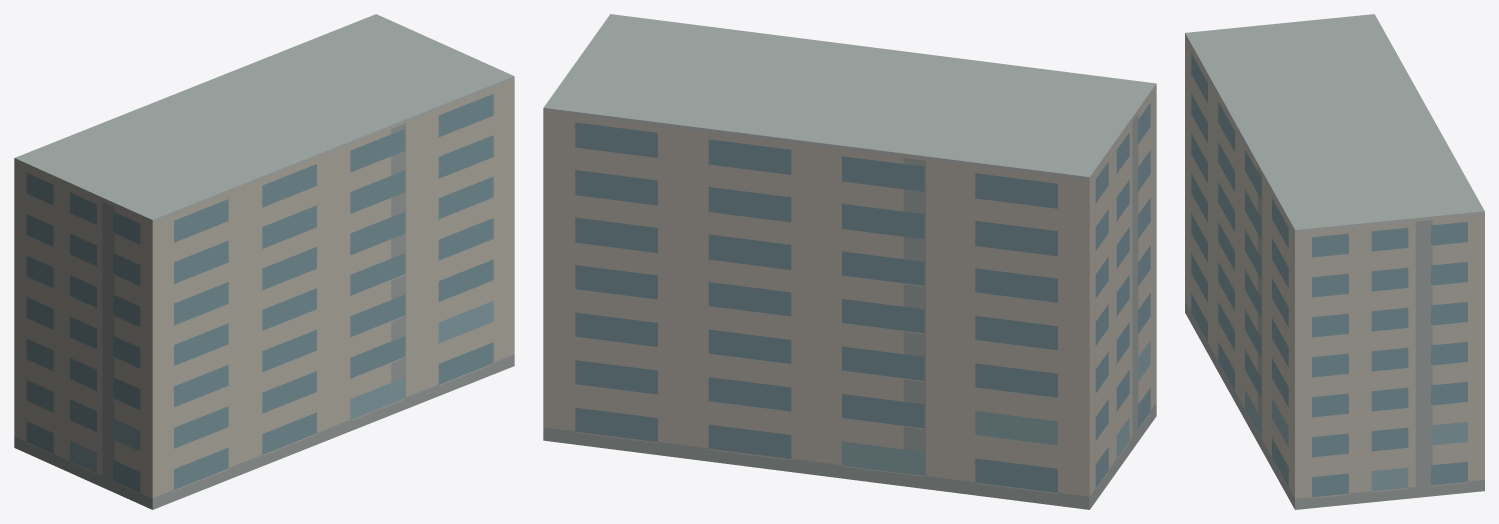
Rendered from residential-4b0a005a-c057-4cd7-8465-2305f3ba141c.glb.
The picture shows the model from 3 angles, left to right: view 1: azimuth 30°, elevation 25°; view 2: azimuth 150°, elevation 25°; view 3: azimuth 270°, elevation 25°; orthographic projection. The views are drawn at different scales.
Visible parts, largest first — view 1: residential-4b0a005a-c057-4cd7-8465-2305f3ba141c.tmp; view 2: residential-4b0a005a-c057-4cd7-8465-2305f3ba141c.tmp; view 3: residential-4b0a005a-c057-4cd7-8465-2305f3ba141c.tmp.
Part boxes in pixels (left/top/right/bottom): residential-4b0a005a-c057-4cd7-8465-2305f3ba141c.tmp: left=14, top=14, right=514, bottom=509; residential-4b0a005a-c057-4cd7-8465-2305f3ba141c.tmp: left=543, top=14, right=1156, bottom=509; residential-4b0a005a-c057-4cd7-8465-2305f3ba141c.tmp: left=1185, top=14, right=1484, bottom=509.
Size of the model in its own units: 31.49 by 19 by 18.46.
